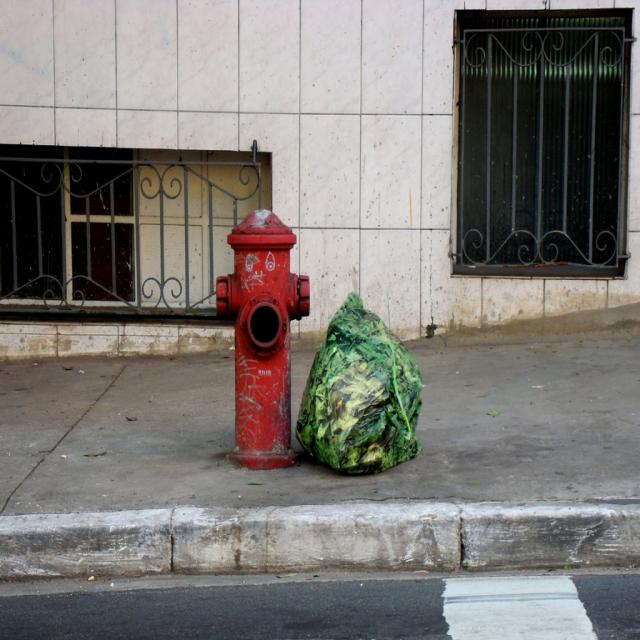fire_hydrant: (212, 203, 311, 465)
